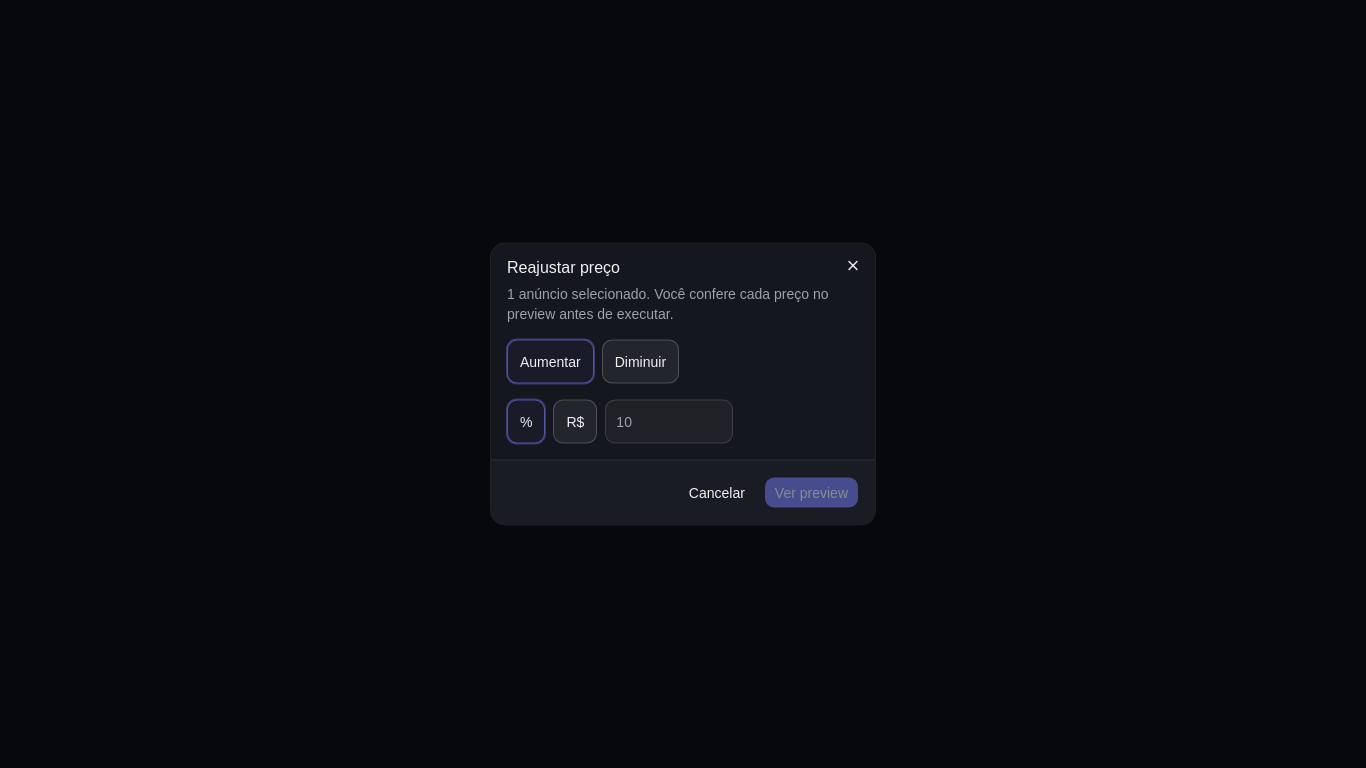
Scenario: DialogReajuste › Diminuir 100% ou mais é recusado
Click the button "Diminuir".
click(640, 362)  # box [602,340,679,384]
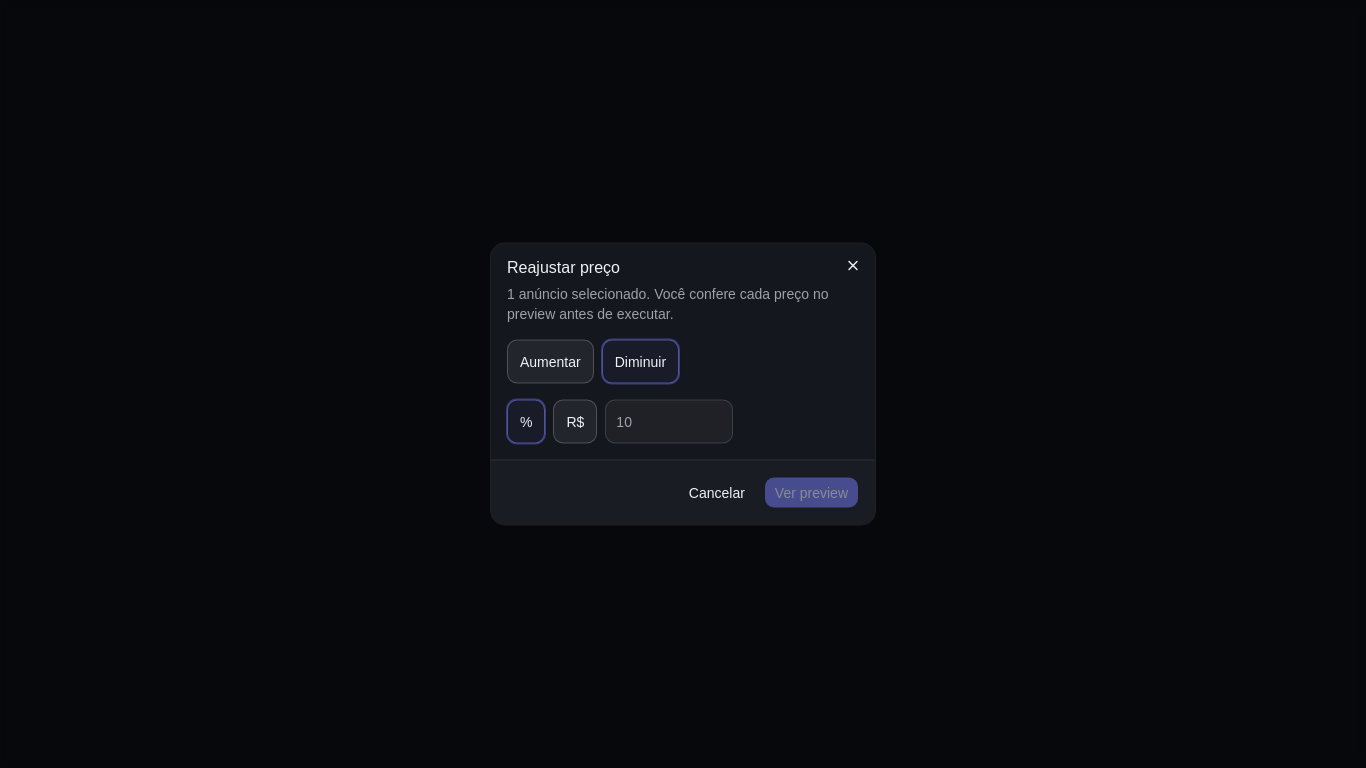
Type "100" into the field named "Valor do ajuste".
click(669, 422); type("100")  # box [605,400,733,444]
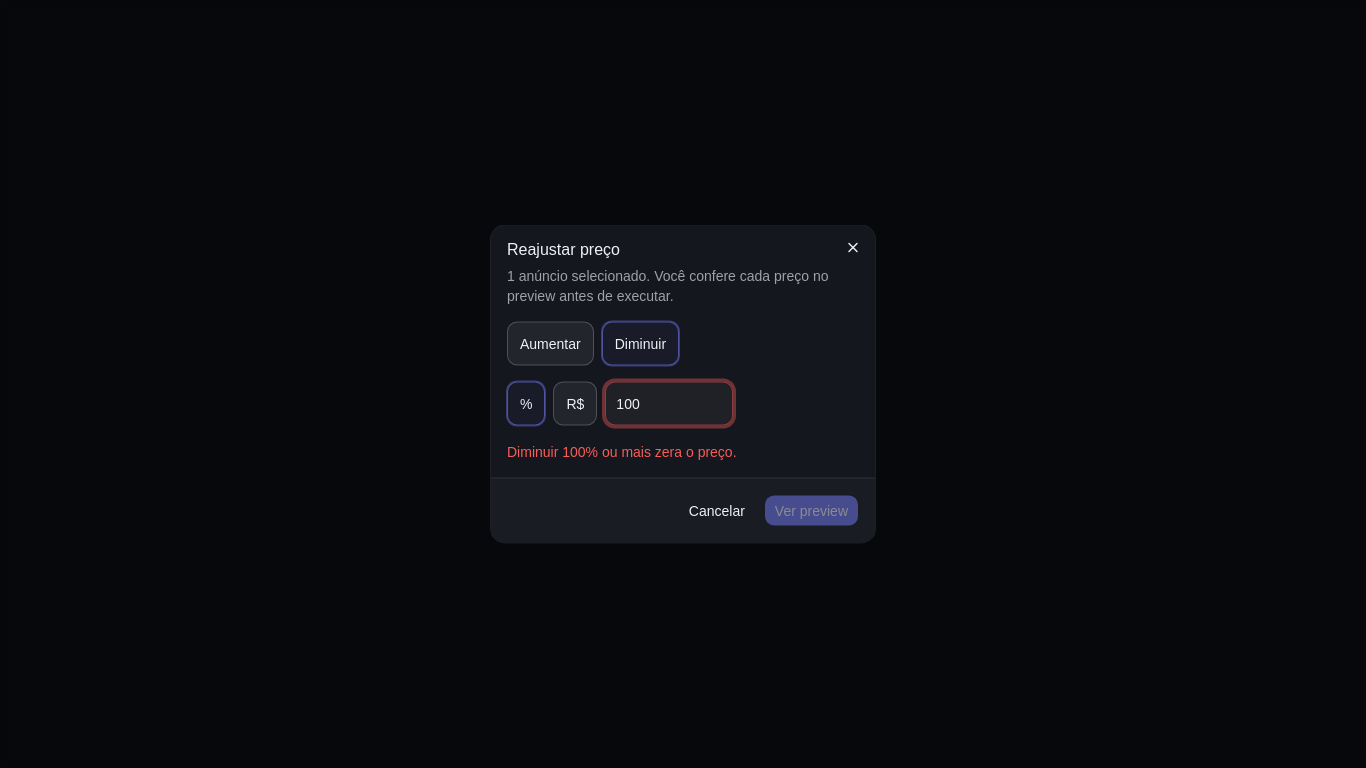
Now the text "Diminuir 100% ou mais zera o preço." is shown, box [507,444,736,460]
